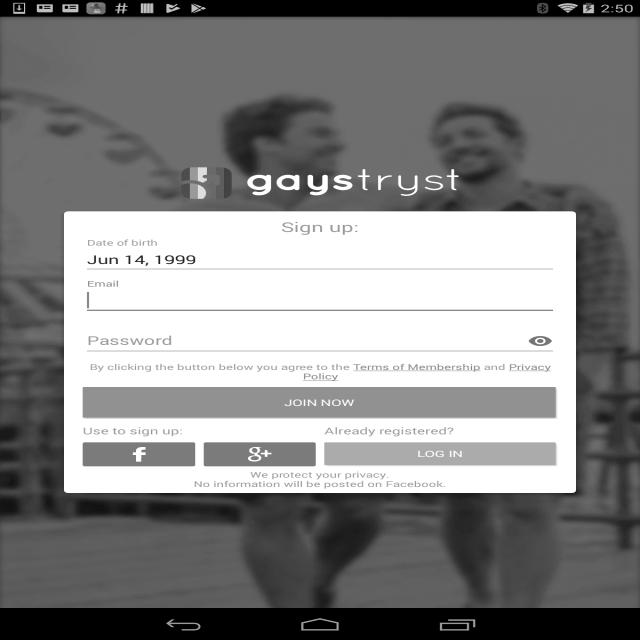Button: (83, 387, 557, 419), (324, 442, 558, 467)
EditText: (83, 246, 557, 274), (83, 287, 557, 315), (83, 328, 557, 356)
ImageButton: (83, 442, 195, 467), (204, 442, 316, 467), (524, 328, 558, 356)
ImageView: (0, 17, 640, 608), (177, 165, 463, 202)
TextView: (83, 361, 557, 382), (193, 469, 446, 489), (82, 424, 316, 437), (324, 424, 558, 437), (281, 218, 359, 235)
